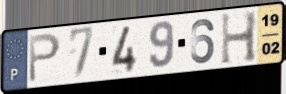4: (110, 23, 139, 74)
6: (190, 17, 217, 65)
7: (67, 25, 95, 83)
9: (147, 19, 175, 72)
H: (219, 9, 259, 67)
P: (27, 31, 63, 85)
